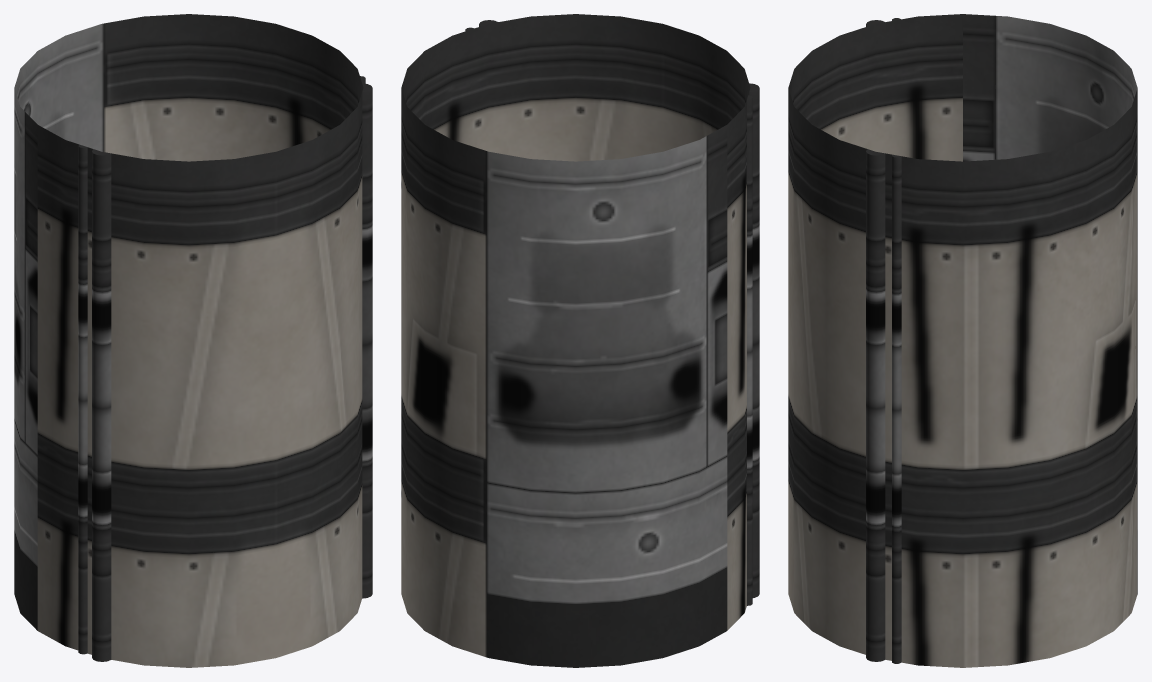
The model's file is hydra_lv_fuel_tank_s2_3.obj.
3 views of the same model, side by side, from view 1: azimuth 30°, elevation 25°; view 2: azimuth 150°, elevation 25°; view 3: azimuth 270°, elevation 25° (orthographic).
Visible parts, largest first — view 1: 1; view 2: 1; view 3: 1.
Boxes of the visible parts, x1,y1,x2,y2 form: 1: (14,14,372,667); 1: (401,14,759,667); 1: (788,14,1137,667).
Size of the model in its own units: 2.5 by 4 by 2.5.
